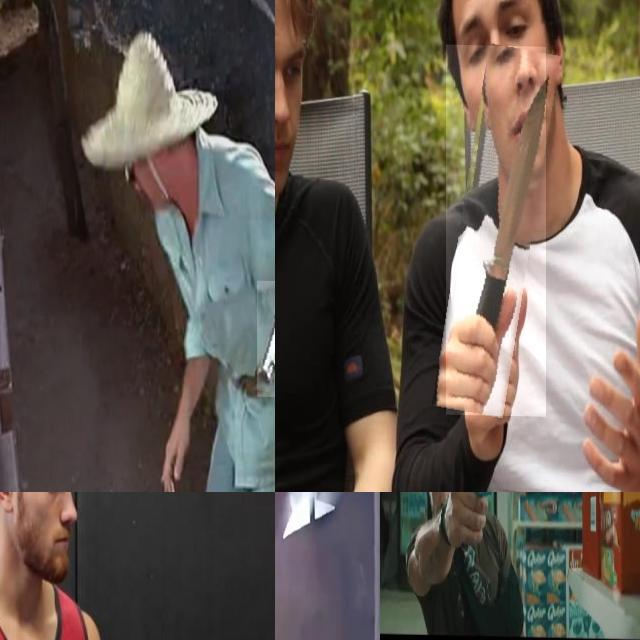-: (446, 43, 546, 415)
gun-knife-thesis - v11 Yolov5 augmented: (452, 492, 513, 556), (257, 279, 275, 396), (275, 492, 292, 535)
